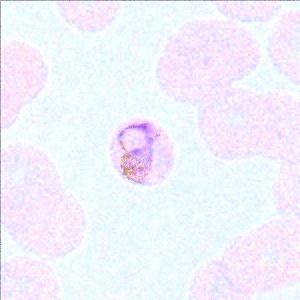Infected: (108, 116, 175, 186)
Uninfected: (0, 143, 84, 255), (192, 218, 300, 300), (157, 21, 257, 105), (199, 83, 298, 164)
